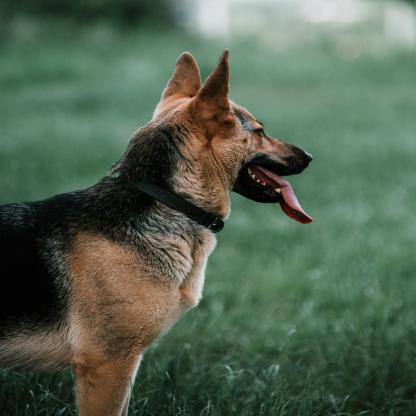german shepherd: (0, 49, 316, 416)
